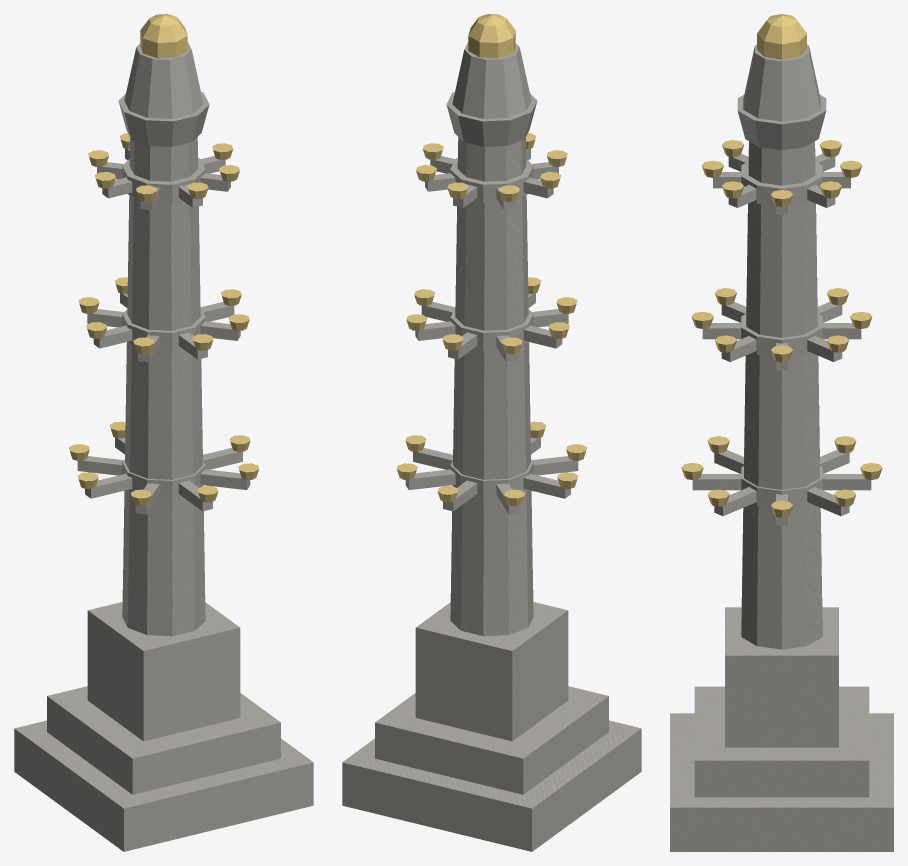
The model's file is standing-brass-lamp-source.glb.
3 views of the same model, side by side, from view 1: azimuth 30°, elevation 25°; view 2: azimuth 150°, elevation 25°; view 3: azimuth 270°, elevation 25° (orthographic). The views are drawn at different scales.
Parts seen in each view (by area): view 1: lamp-column-stone, lamp-column-brass; view 2: lamp-column-stone, lamp-column-brass; view 3: lamp-column-stone, lamp-column-brass.
Boxes of the visible parts, x1,y1,x2,y2 form: lamp-column-stone: (14,42,313,851); lamp-column-brass: (69,14,258,506); lamp-column-stone: (342,42,641,851); lamp-column-brass: (397,14,586,506); lamp-column-stone: (670,44,893,851); lamp-column-brass: (681,14,882,517).
Size of the model in its own units: 1.1 by 4.28 by 1.1.
2 materials, 1 textured.
